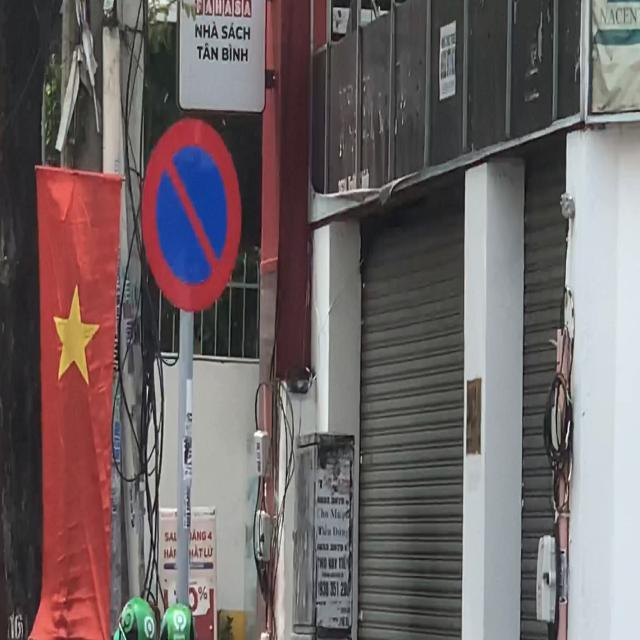Cam do: (141, 116, 243, 312)
